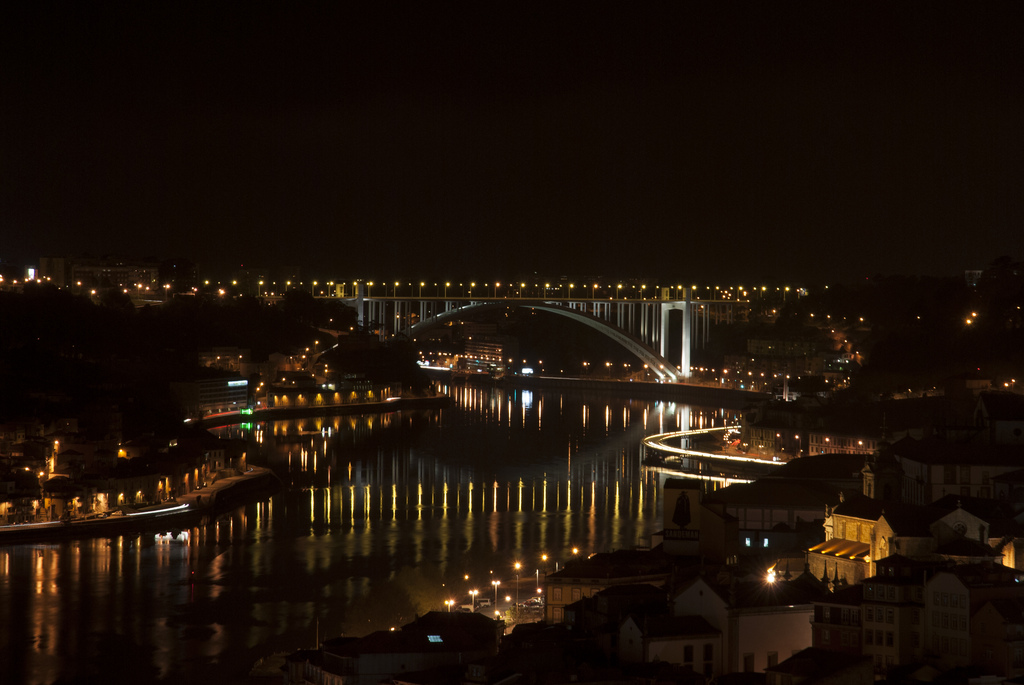arrabida: (330, 284, 750, 382)
